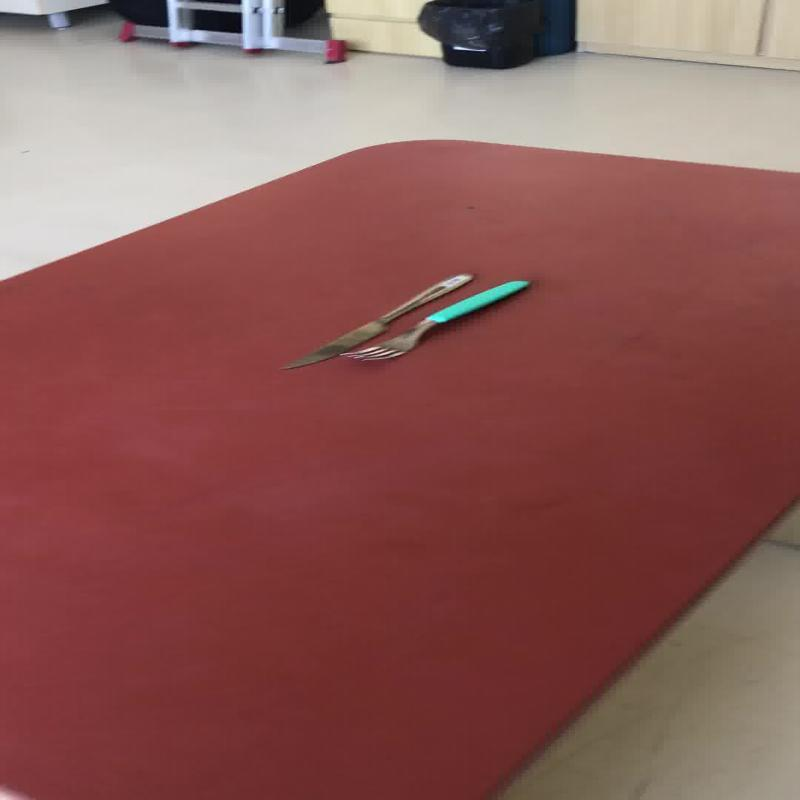fork: (336, 278, 530, 362)
knife: (276, 271, 474, 370)
